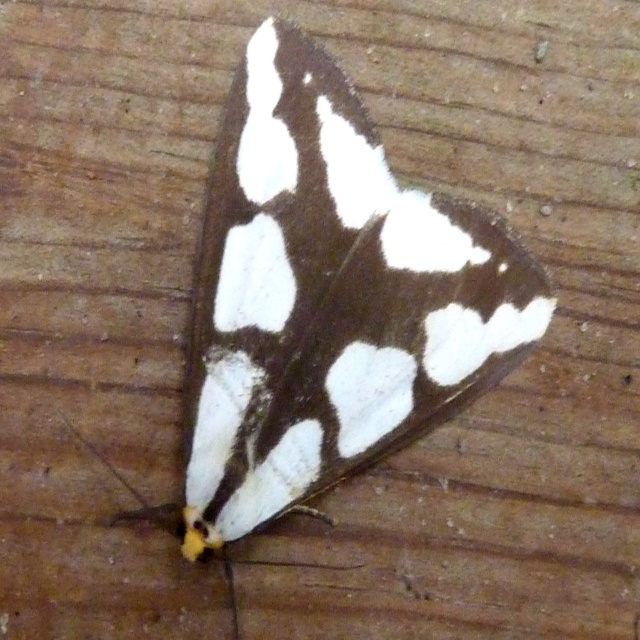Moths and butterflies: (60, 12, 556, 639)
